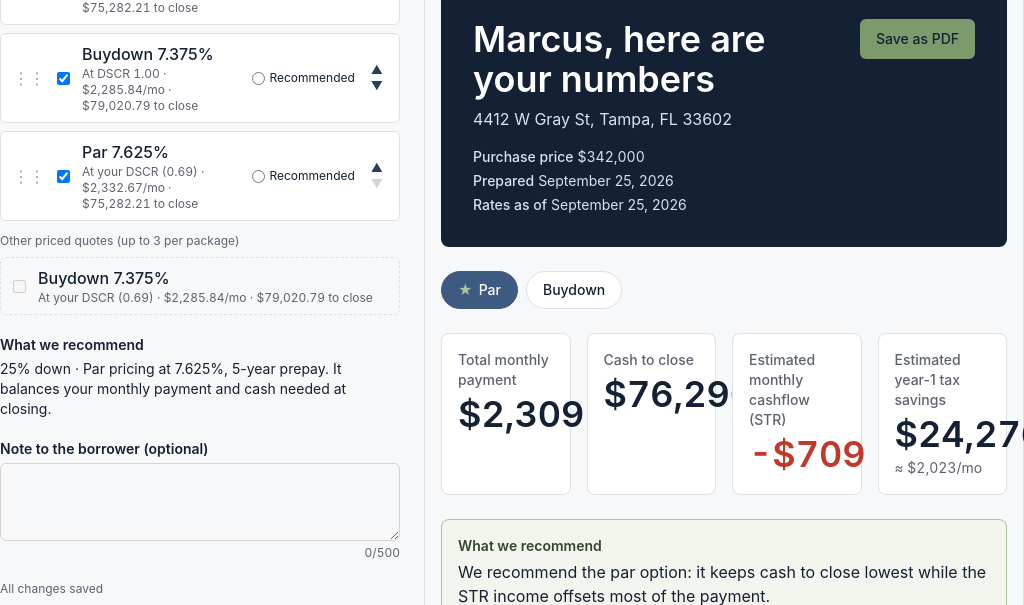
Scenario: SendTab › M1: a note-blur save and a checkbox save in quick succession end with the server state containing both
Type "Call me first." into the text box labelled "Note to the borrower (optional)" at [200, 502], box [0,463,400,541]
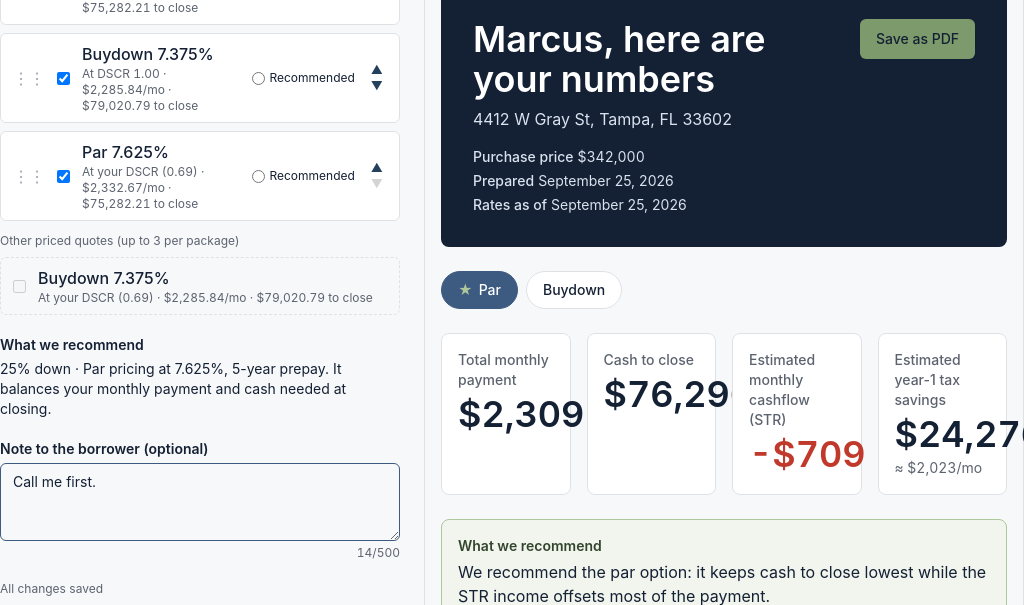
Press Tab
(page scrolled)
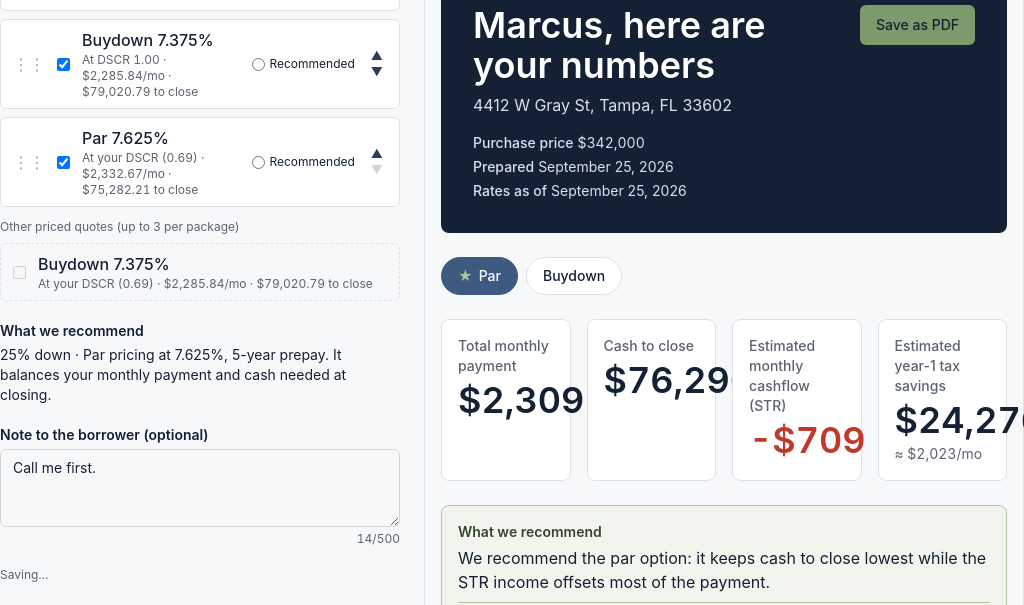
Click the checkbox named "Include Par 7.625% (At your DSCR (0.69))" at [64, 162], box [57,156,70,168]
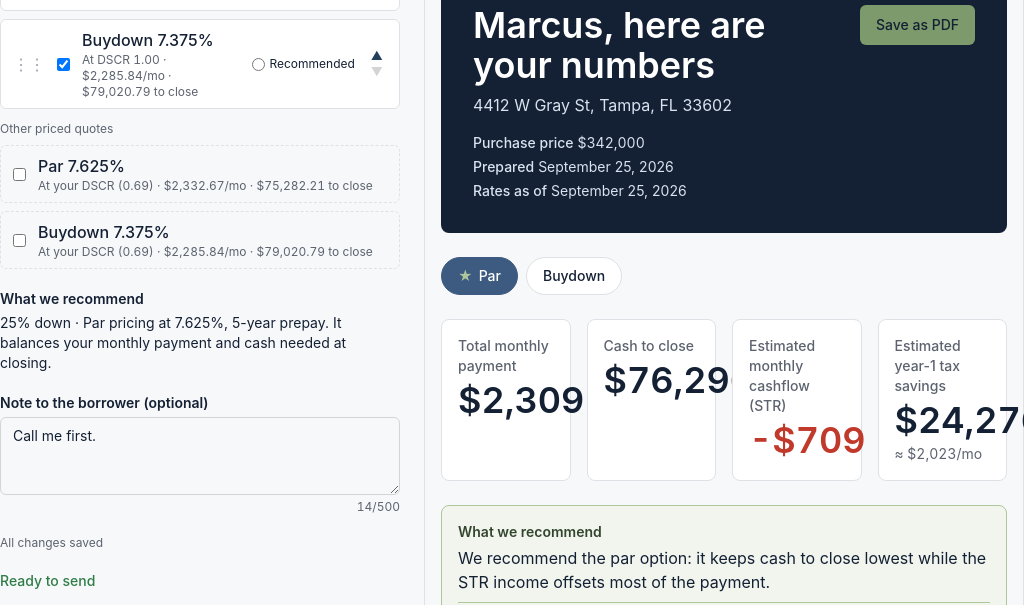
Check: the text with test id "save-status" reads "All changes saved", box [0,535,103,550]
